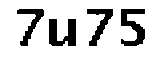5: (119, 5, 151, 52)
7: (15, 4, 45, 53), (84, 5, 115, 50)
u: (47, 15, 80, 52)
